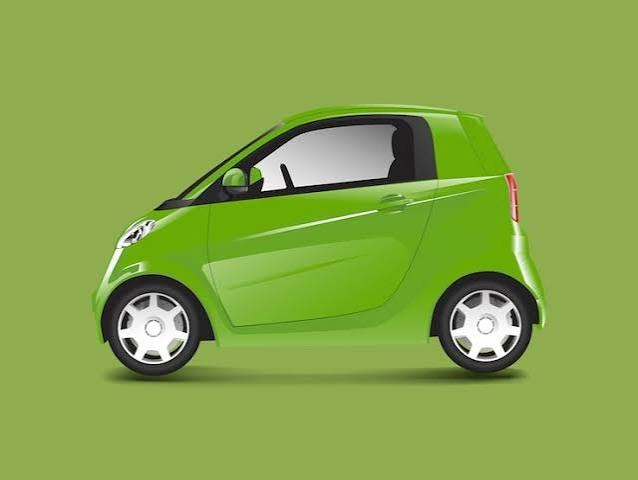car: (85, 100, 553, 393), (84, 99, 541, 392), (89, 110, 550, 391)
